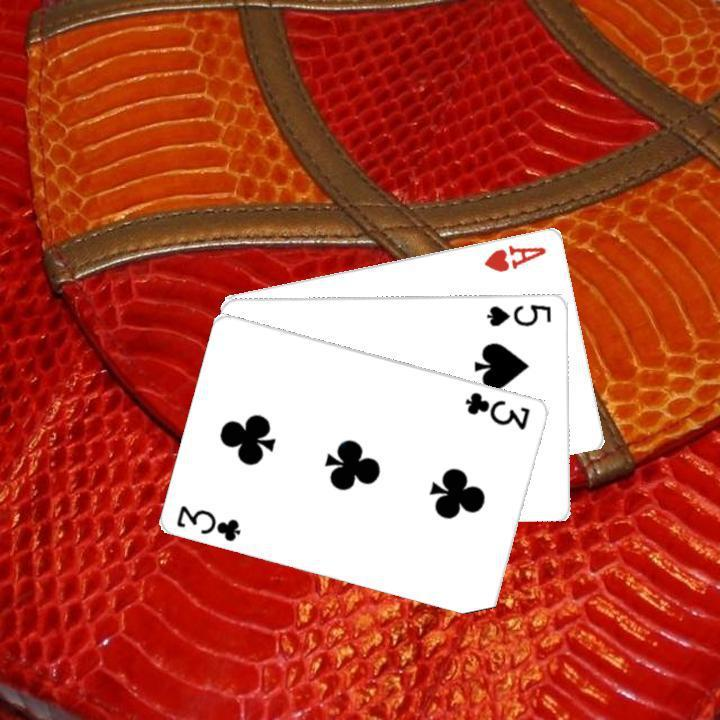3: (461, 387, 533, 432), (172, 500, 244, 544)
5: (483, 300, 554, 328)
A: (480, 240, 549, 274)
